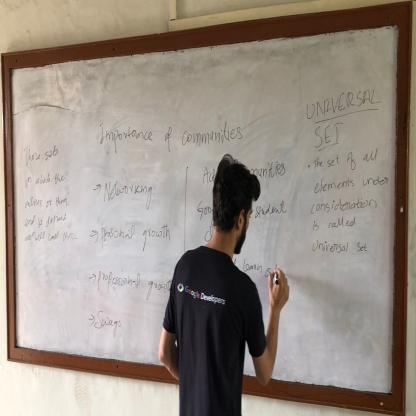Handwritten text: (96, 114, 247, 153), (300, 82, 386, 118), (308, 166, 392, 198), (304, 187, 384, 220), (94, 267, 173, 300), (97, 221, 178, 253), (306, 147, 386, 172), (102, 174, 157, 210), (306, 207, 362, 237), (307, 235, 371, 258), (19, 137, 64, 166), (17, 189, 71, 210), (92, 307, 124, 341), (19, 167, 68, 188), (20, 211, 71, 229), (315, 120, 346, 146)
Lecturer: (165, 148, 281, 385)
Whiteboard: (0, 4, 406, 403)
